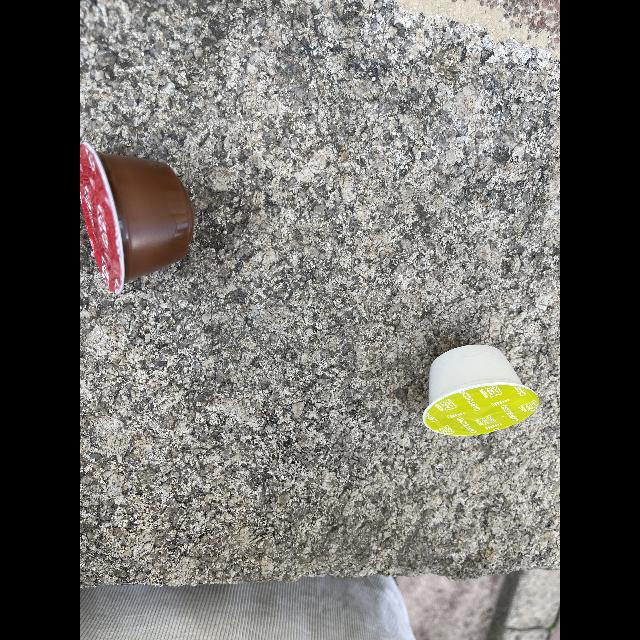intact_capsule: (80, 133, 210, 310), (414, 336, 544, 452)
